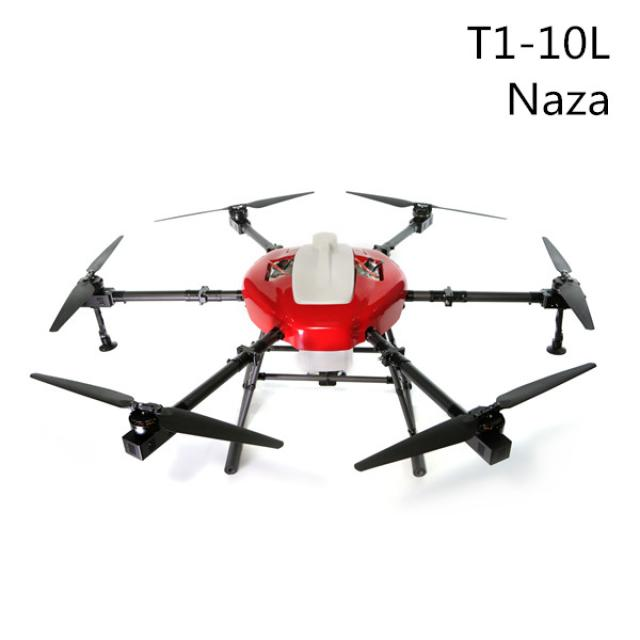drone: (67, 191, 612, 501)
